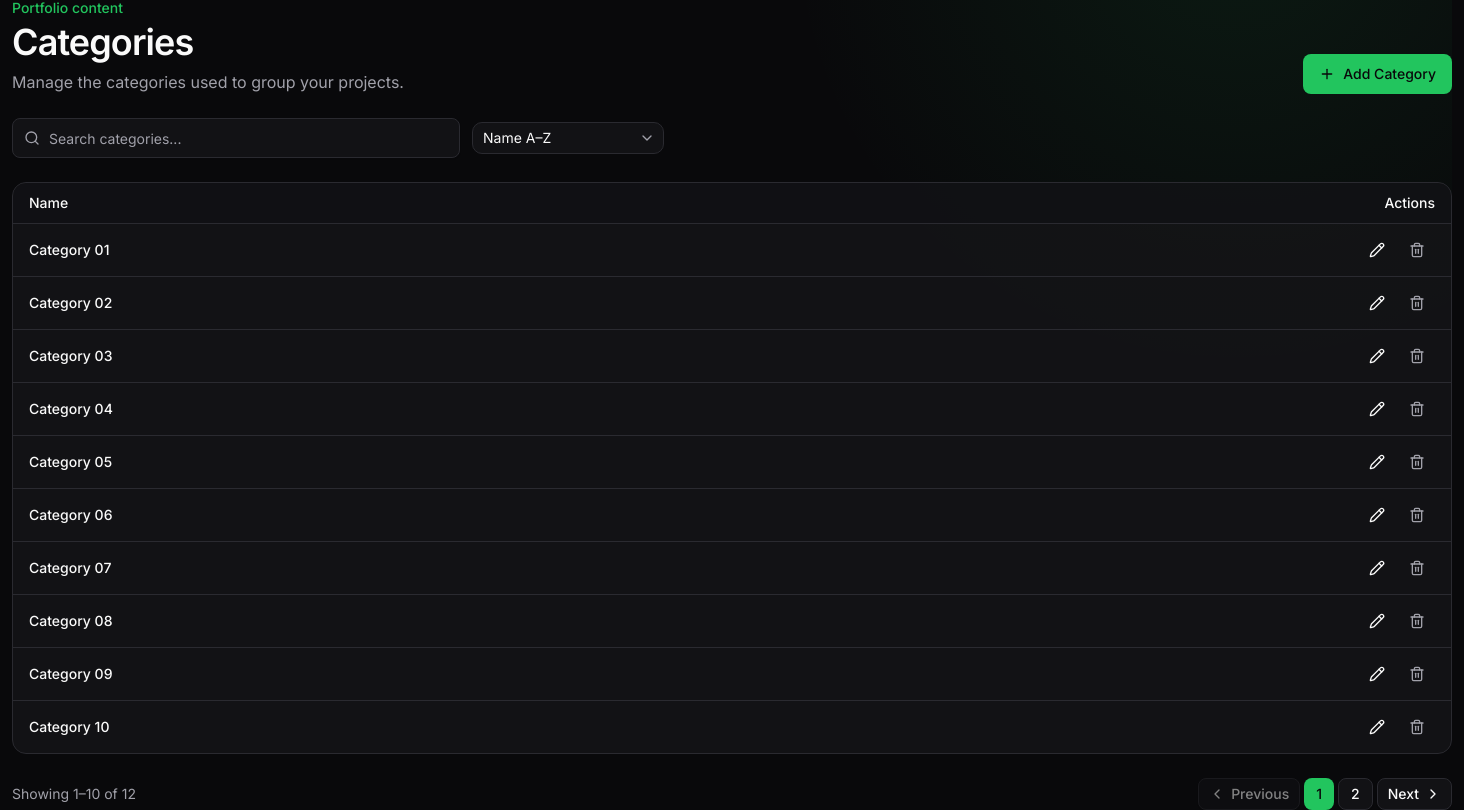
Test: CategoryView › paginates entries and moves to page 2
The image size is (1464, 810).
Expected: the text "Showing 1–10 of 12" is shown, left=12, top=784, right=136, bottom=804
Expected: the text "Category 01" is shown, left=13, top=223, right=759, bottom=276
What coordinates should you click on to do the following:
click the button named "Page 2"
I would click on:
 (1355, 794)
Its box is left=1338, top=778, right=1373, bottom=809.
(page scrolled)
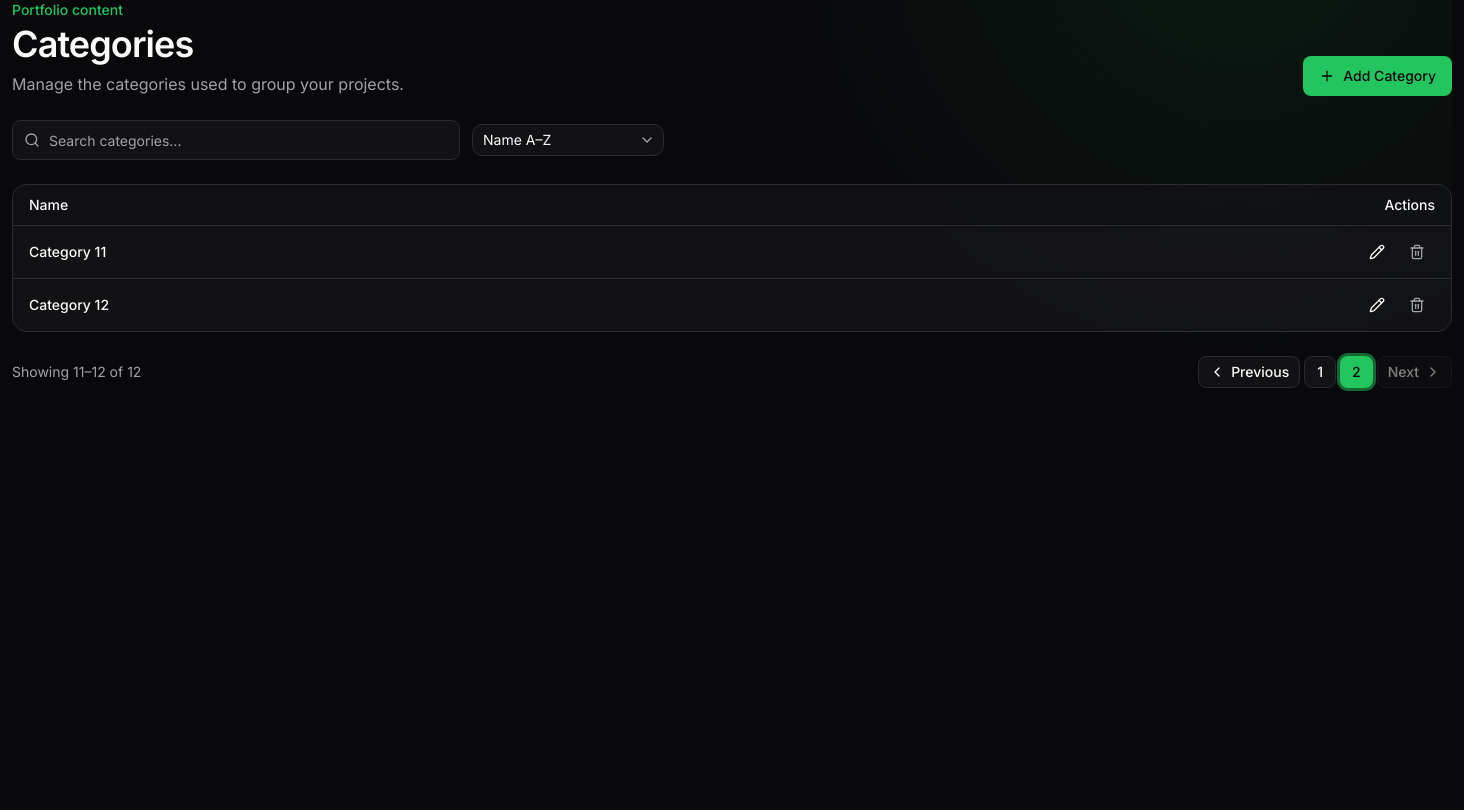
Now the text "Showing 11–12 of 12" is shown, box left=12, top=362, right=141, bottom=382
